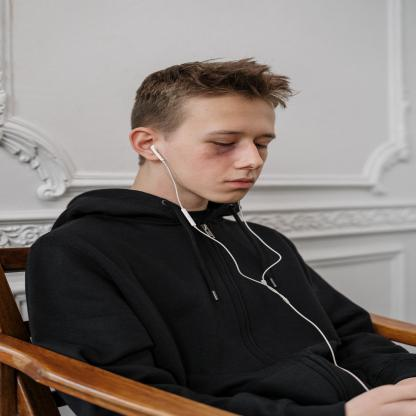Eye: (208, 137, 239, 150), (254, 140, 274, 150)
Mouth: (225, 173, 260, 192)
Nose: (233, 146, 266, 170)
